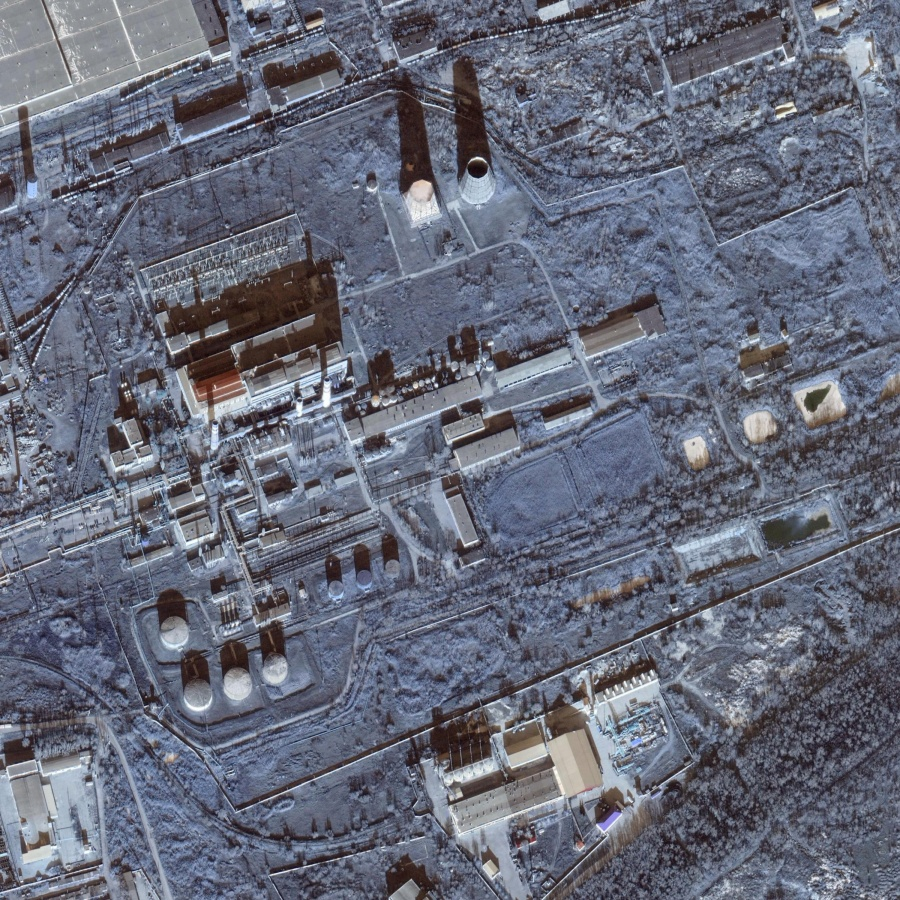PowerPlant: (139, 128, 539, 716)
